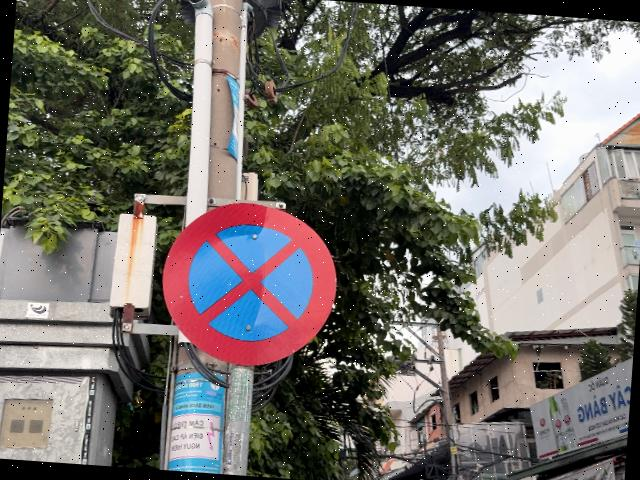cam-dung-va-do-xe: (156, 196, 341, 373)
